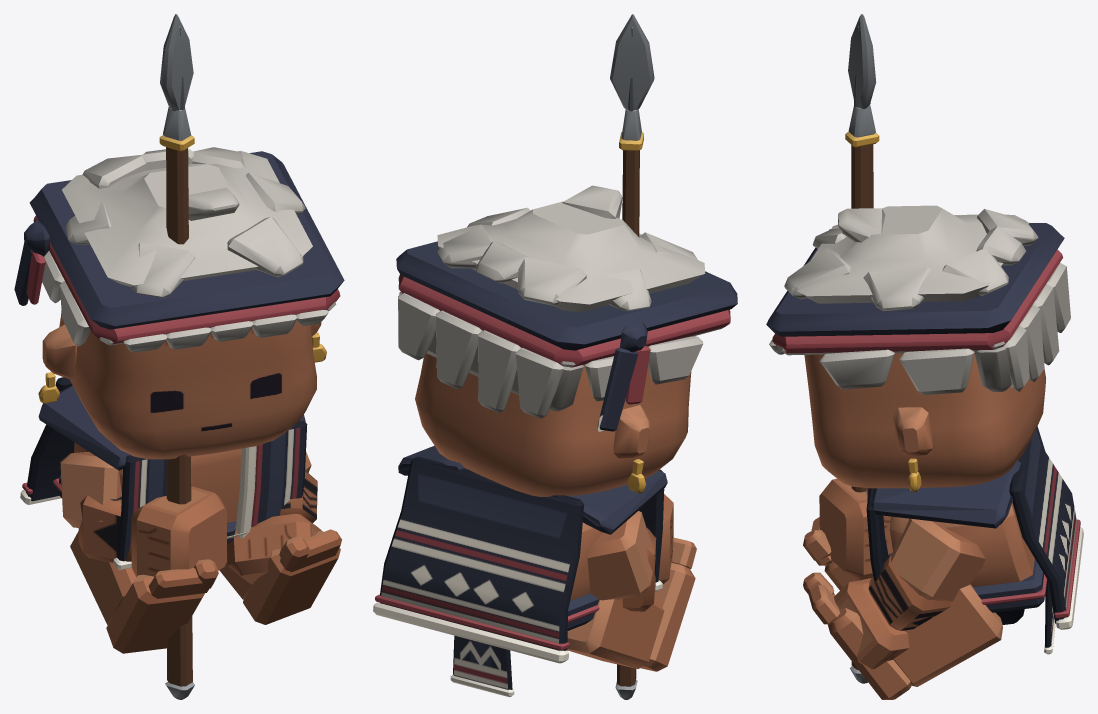
Rendered from audience_v2_elder_man_sit.glb.
3 renders of one model, left to right at view 1: azimuth 30°, elevation 25°; view 2: azimuth 150°, elevation 25°; view 3: azimuth 270°, elevation 25°, orthographic. The views are drawn at different scales.
Parts seen in each view (by area): view 1: audience_v2_elder_man_sit; view 2: audience_v2_elder_man_sit; view 3: audience_v2_elder_man_sit.
Boxes of the visible parts, left/top/right/bottom form: audience_v2_elder_man_sit: left=14, top=14, right=344, bottom=699; audience_v2_elder_man_sit: left=373, top=14, right=737, bottom=699; audience_v2_elder_man_sit: left=766, top=14, right=1083, bottom=699.
Size of the model in its own units: 0.3973 by 0.9573 by 0.4142.
Materials: 1 (1 with a texture image).
